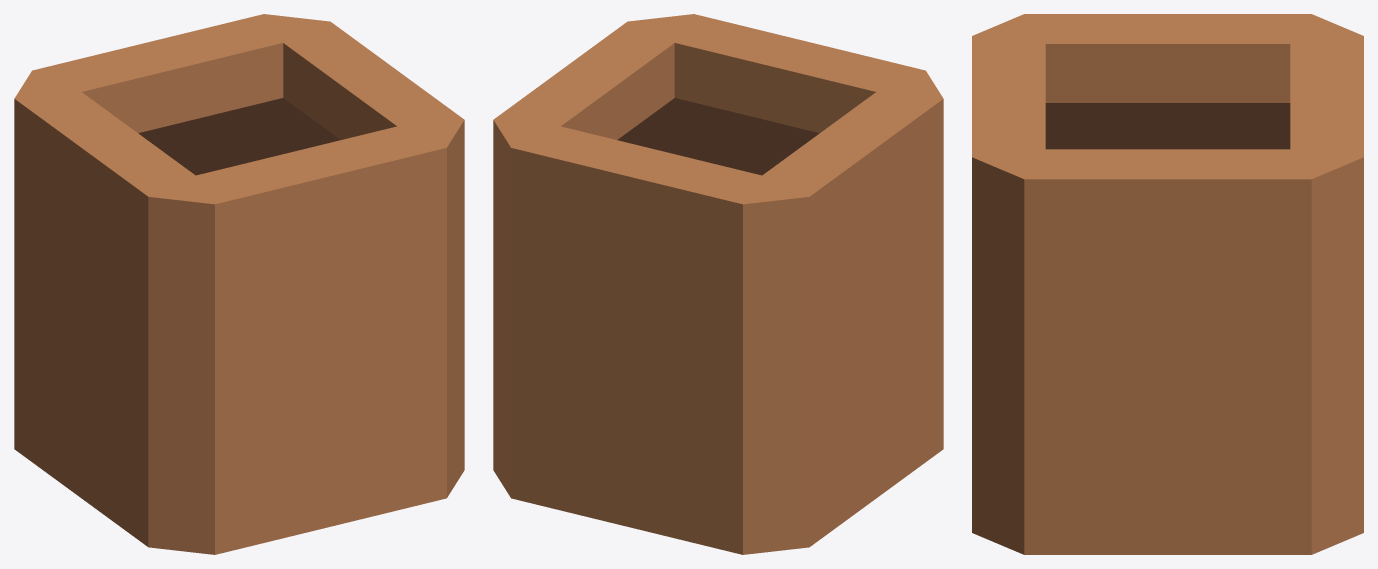
Rendered from flower_pot_small.fbx.
3 views of the same model, side by side, from view 1: azimuth 30°, elevation 25°; view 2: azimuth 150°, elevation 25°; view 3: azimuth 270°, elevation 25° (orthographic). The views are drawn at different scales.
Parts seen in each view (by area): view 1: flower_pot_small; view 2: flower_pot_small; view 3: flower_pot_small.
Part boxes in pixels (left/top/right/bottom): flower_pot_small: left=14, top=14, right=464, bottom=554; flower_pot_small: left=493, top=14, right=943, bottom=554; flower_pot_small: left=972, top=14, right=1363, bottom=554.
Size of the model in its own units: 61.18 by 61.07 by 64.72.
